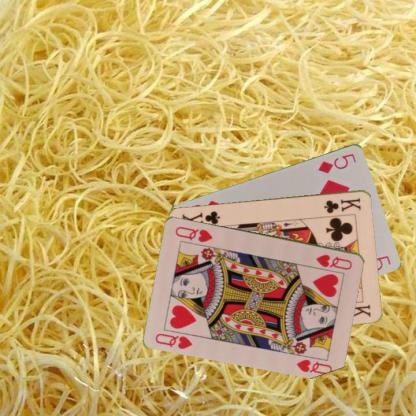5d: (315, 150, 358, 175)
Kc: (322, 195, 362, 214)
Qh: (314, 251, 354, 271), (153, 331, 194, 350)
